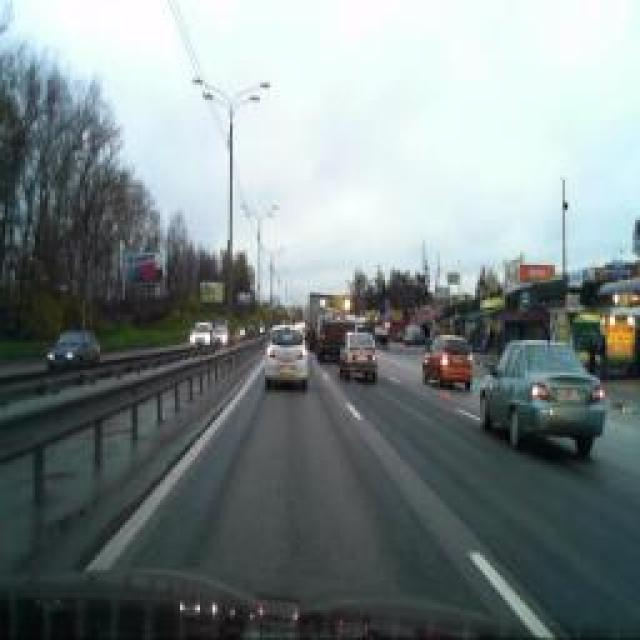sign: (520, 289, 530, 311)
